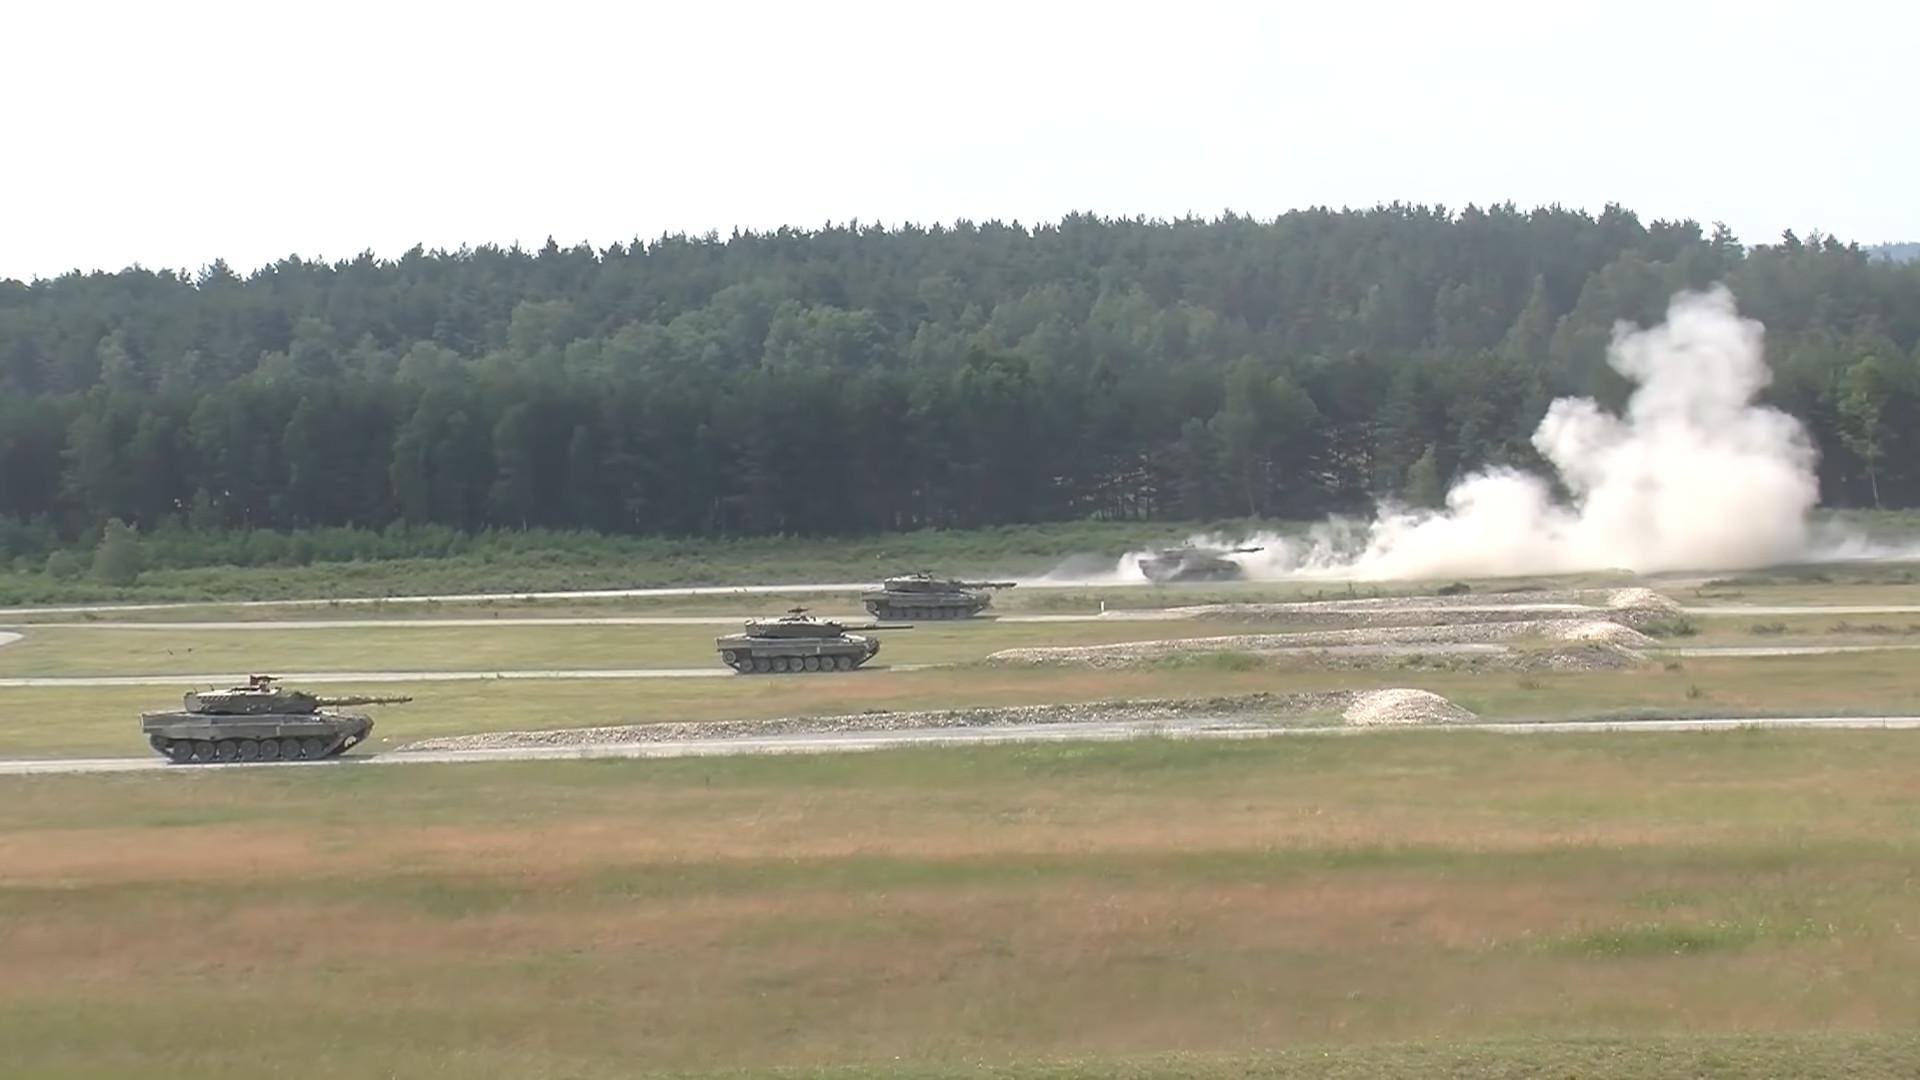tank: (142, 691, 413, 762), (717, 622, 914, 674), (862, 580, 1017, 618), (1139, 547, 1265, 583)
